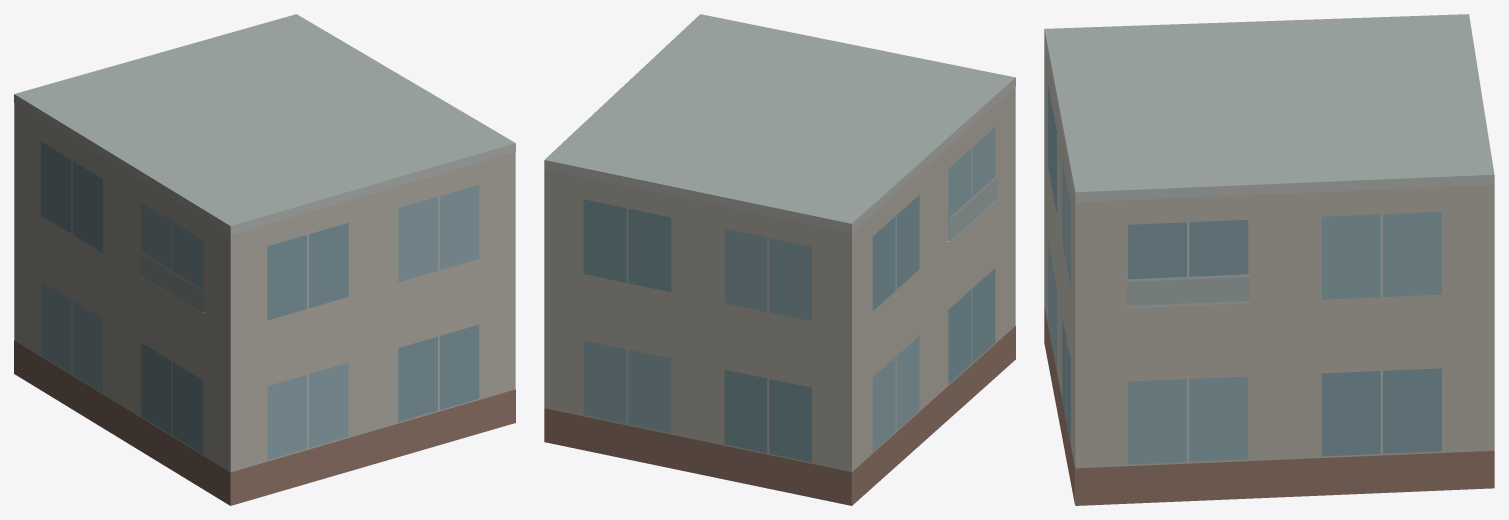
The model's file is survey-upis-32624216.glb.
3 views of the same model, side by side, from view 1: azimuth 30°, elevation 25°; view 2: azimuth 150°, elevation 25°; view 3: azimuth 270°, elevation 25° (orthographic). The views are drawn at different scales.
Visible parts, largest first — view 1: survey-upis-32624216.tmp; view 2: survey-upis-32624216.tmp; view 3: survey-upis-32624216.tmp.
Boxes of the visible parts, left/top/right/bottom form: survey-upis-32624216.tmp: left=14, top=14, right=515, bottom=505; survey-upis-32624216.tmp: left=544, top=14, right=1015, bottom=505; survey-upis-32624216.tmp: left=1044, top=14, right=1494, bottom=505.
Bounding box in the file's own units: 9.28 × 7.6 × 9.9.
